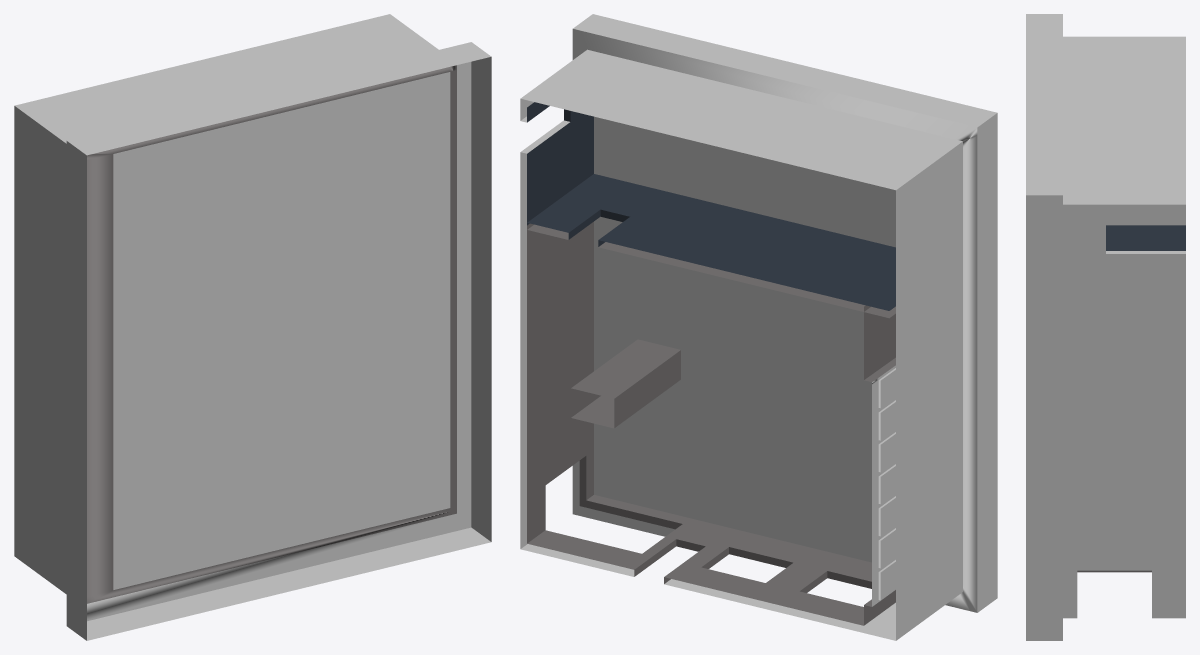
The model's file is 6twelve (1).obj.
3 views of the same model, side by side, from view 1: azimuth 30°, elevation 25°; view 2: azimuth 150°, elevation 25°; view 3: azimuth 270°, elevation 25° (orthographic). The views are drawn at different scales.
Parts seen in each view (by area): view 1: 6twelve (1); view 2: 6twelve (1); view 3: 6twelve (1).
Part boxes in pixels (left/top/right/bottom): 6twelve (1): left=14, top=14, right=491, bottom=640; 6twelve (1): left=520, top=14, right=997, bottom=640; 6twelve (1): left=1026, top=14, right=1185, bottom=640.
Bounding box in the file's own units: 0.1361 × 0.1561 × 0.0507.
